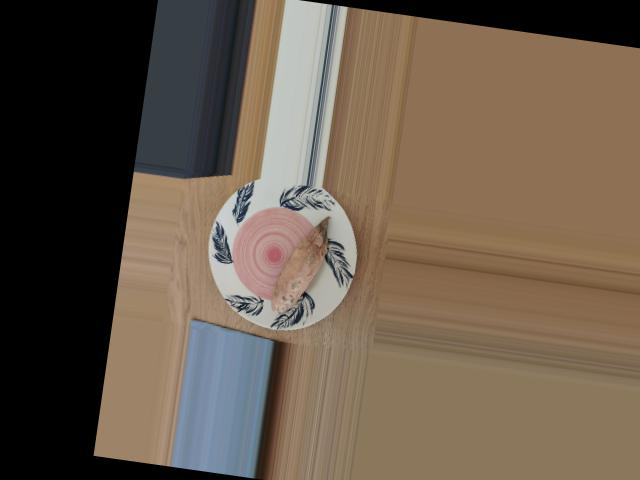sweet_potato: (267, 220, 330, 312)
